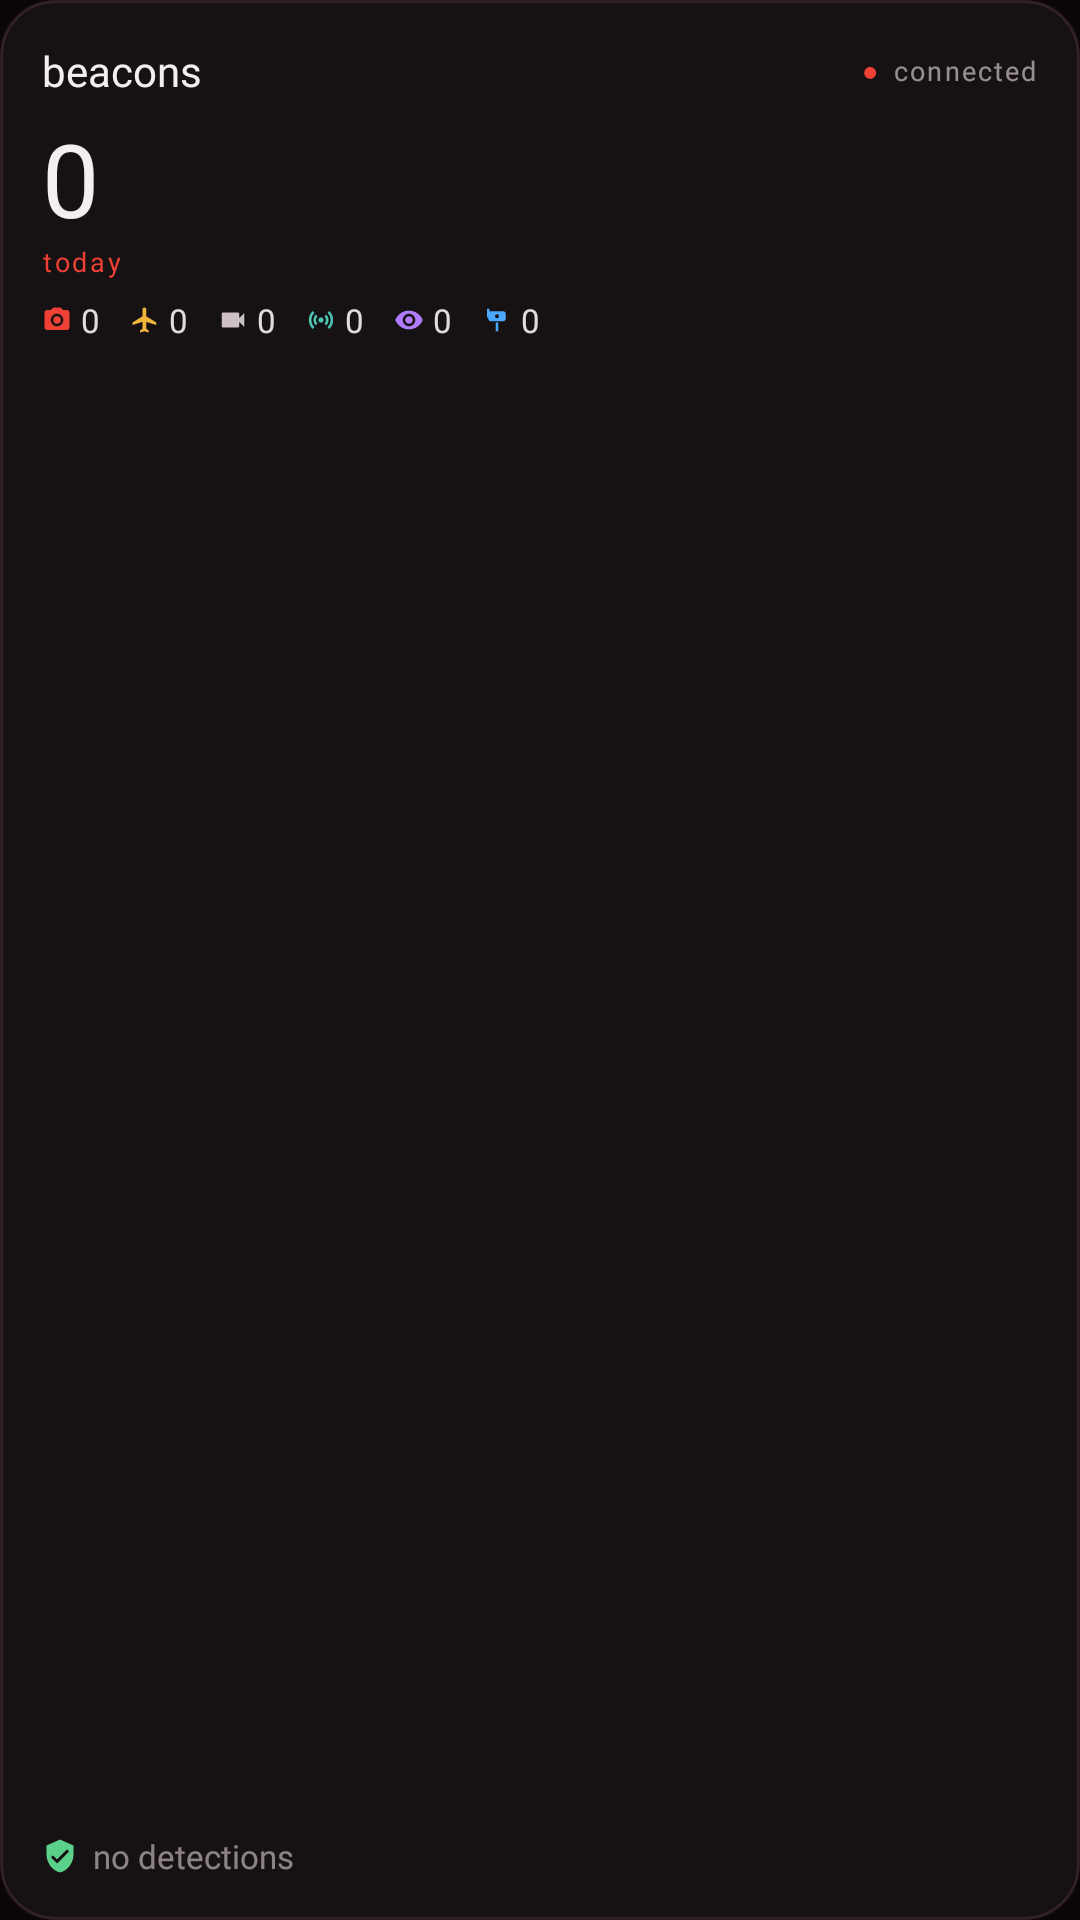

Screen size 1080px×1920px. Icon name, then its center in pixels as [x,y]:
body cam: [233,320]
drone: [144,320]
tracker: [321,320]
